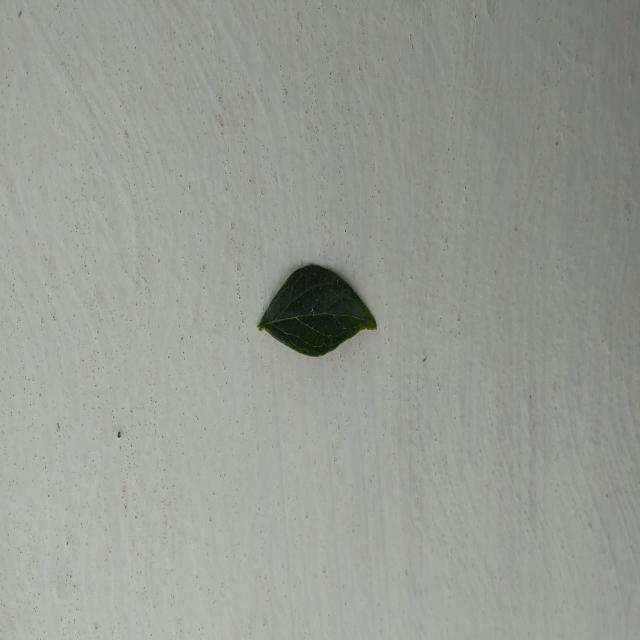Parijatha: (258, 264, 376, 358)
